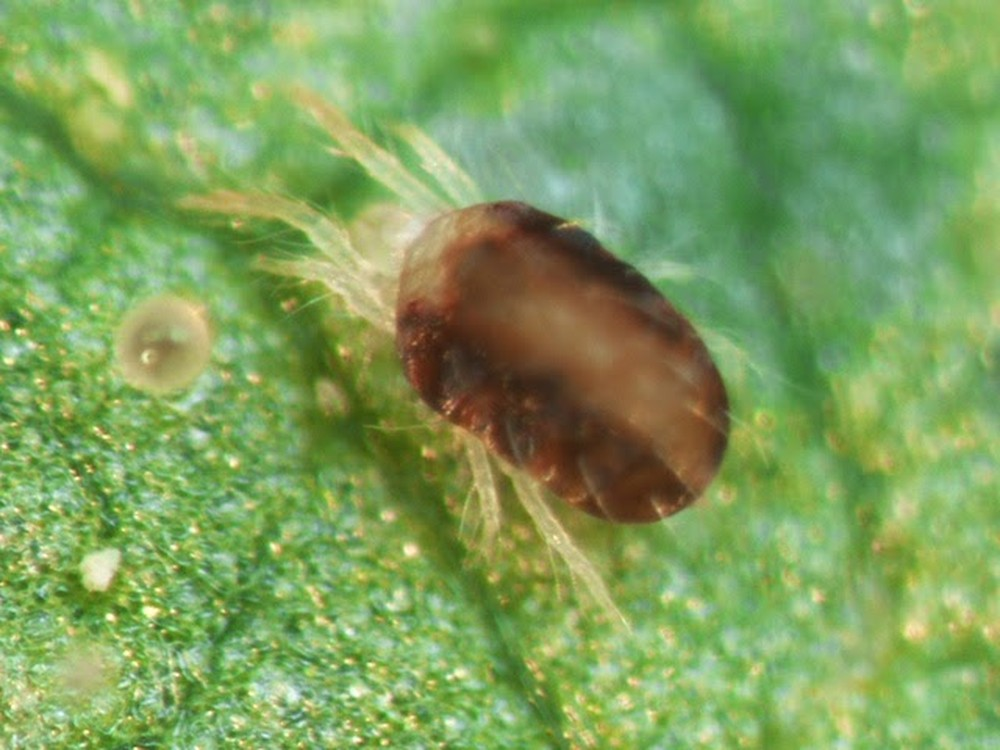Aracnido Rojo: (198, 87, 798, 646)
